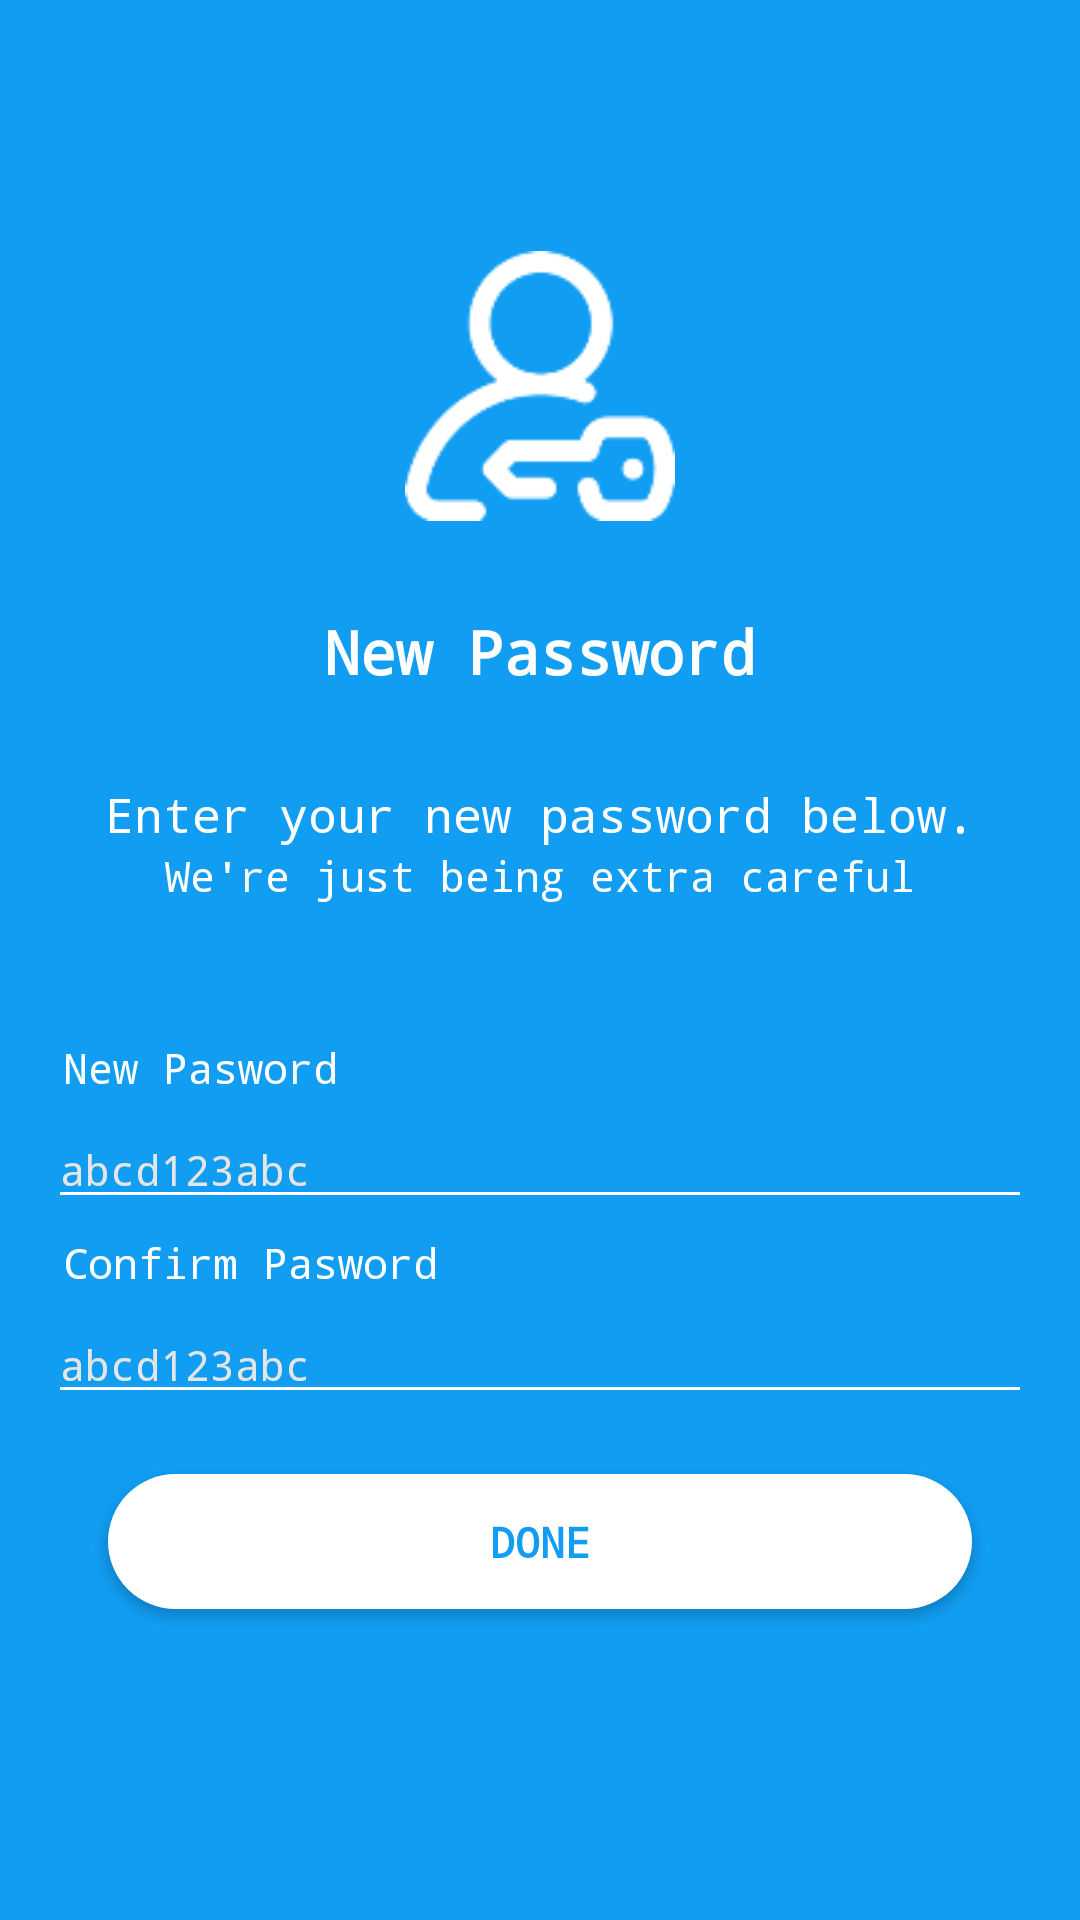

Named icons in this screenshot (1080 × 1920) and their bounding boxes, BBox(x1, y1, x2, y2):
forgot password: BBox(405, 251, 675, 521)
